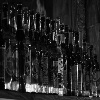beer: (45, 15, 66, 100)
